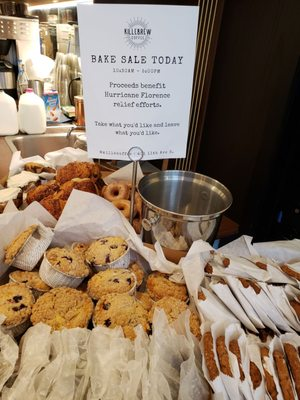pizza: (135, 170, 233, 263)
sushi: (134, 170, 233, 263)
